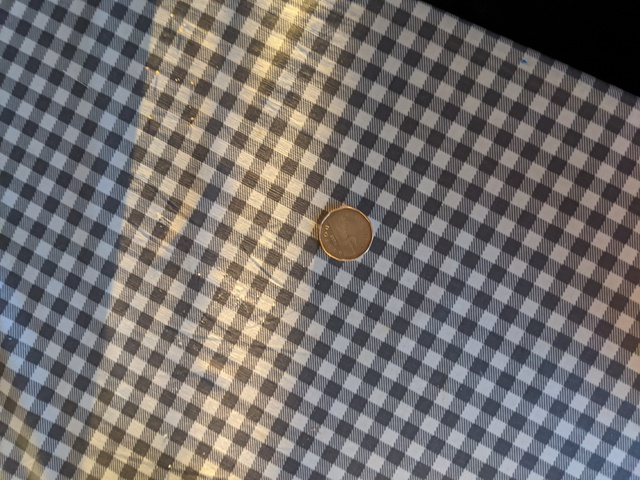loonie: (314, 201, 388, 260)
